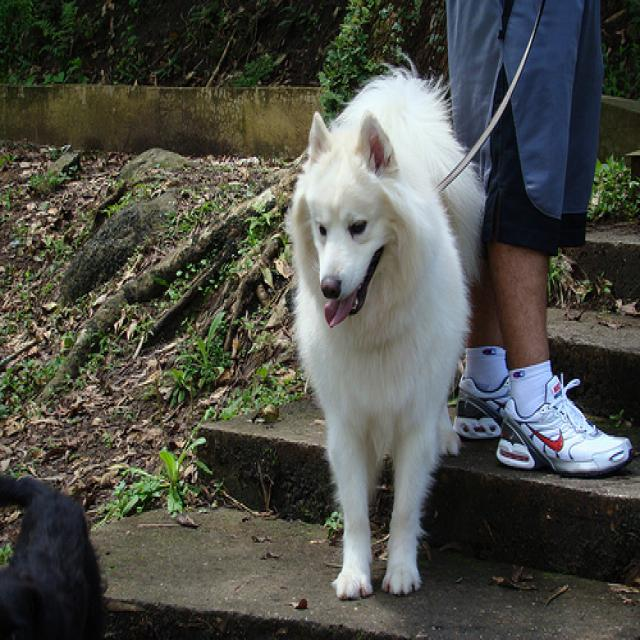dog-samoyed: (280, 60, 495, 606)
